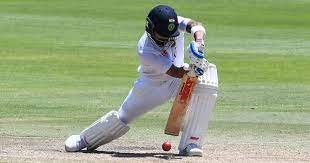bottom left: (159, 127, 169, 137)
bottom right: (174, 130, 184, 140)
top left: (180, 70, 190, 80)
top right: (192, 71, 202, 83)
